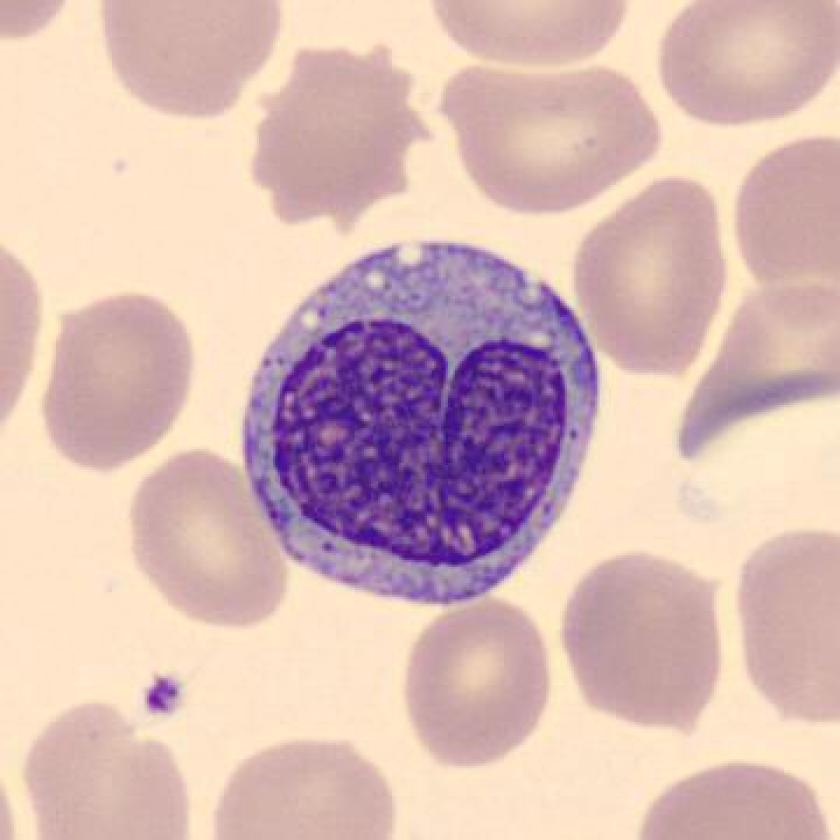monocyte: (218, 223, 622, 624)
